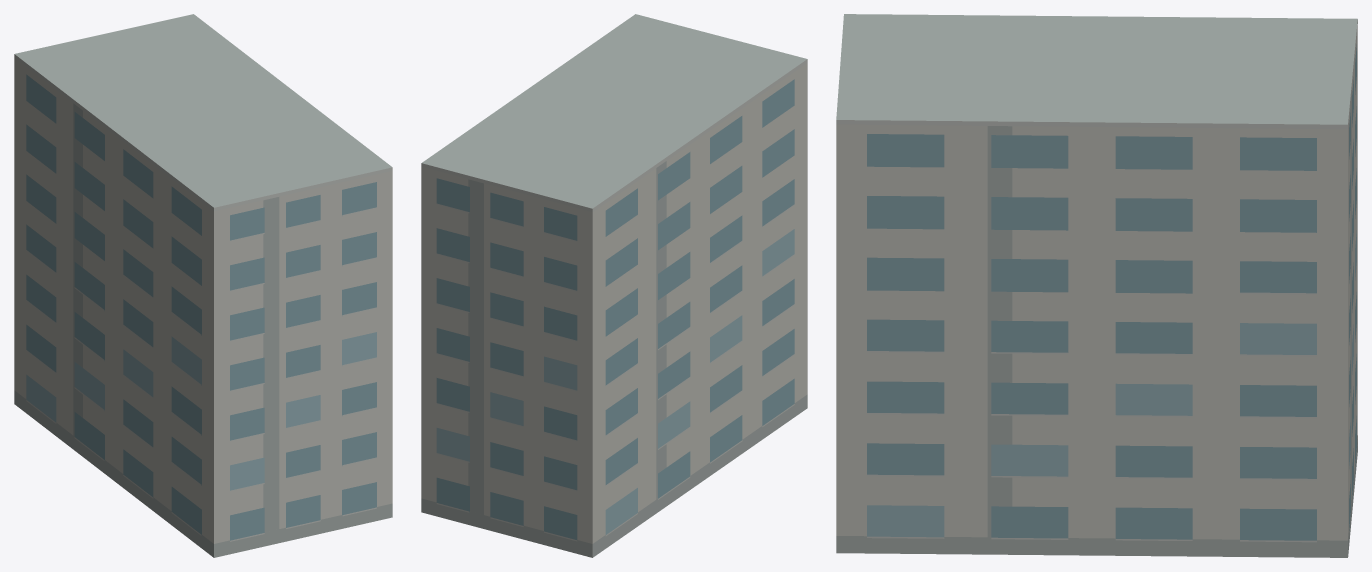
File: survey-upis-32729193.glb
3 views of the same model, side by side, from view 1: azimuth 30°, elevation 25°; view 2: azimuth 150°, elevation 25°; view 3: azimuth 270°, elevation 25° (orthographic). The views are drawn at different scales.
Visible parts, largest first — view 1: survey-upis-32729193.tmp; view 2: survey-upis-32729193.tmp; view 3: survey-upis-32729193.tmp.
Part boxes in pixels (x1=…): survey-upis-32729193.tmp: x1=14, y1=14, x2=392, y2=557; survey-upis-32729193.tmp: x1=421, y1=14, x2=807, y2=557; survey-upis-32729193.tmp: x1=836, y1=14, x2=1357, y2=557.
Bounding box in the file's own units: 12.62 × 23 × 25.11.
